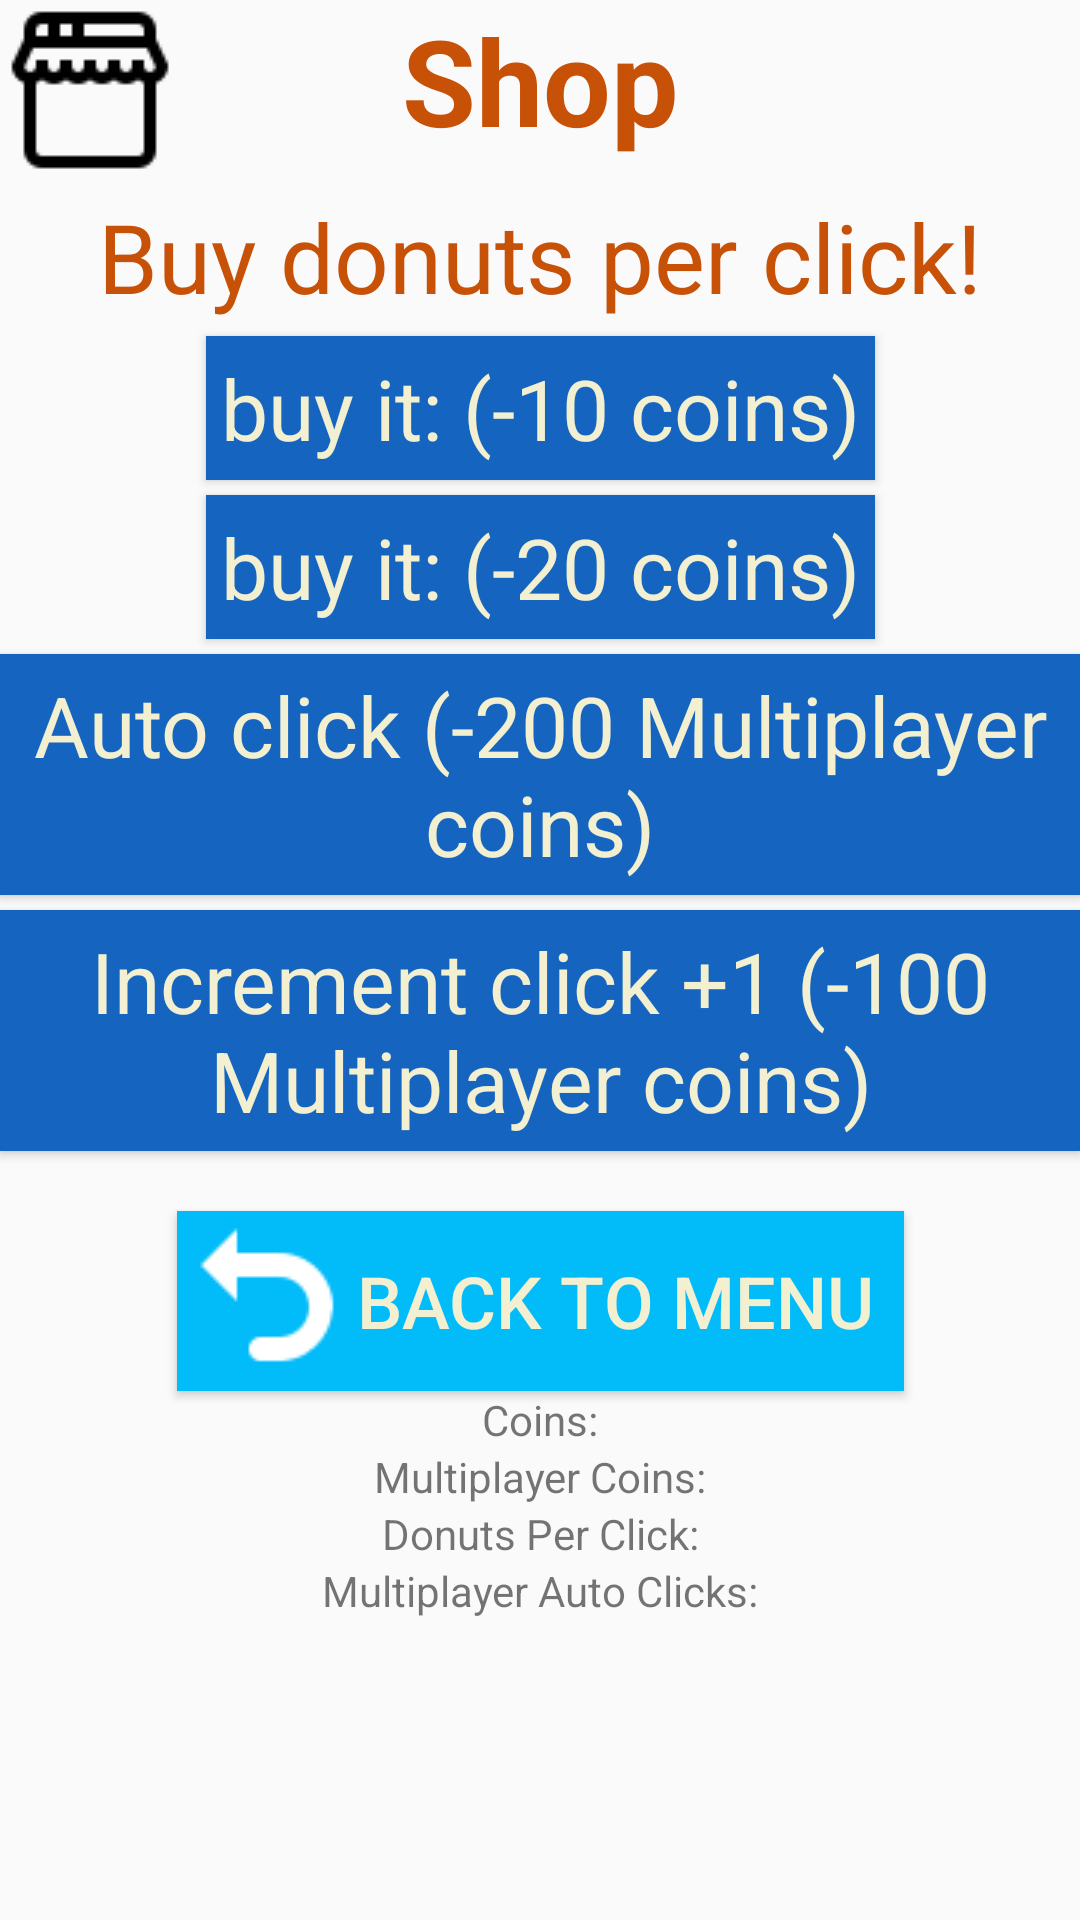

Locate icon controls on the screen. Image size 1080px×1920px, boxes as (x1, y1, x2, y2).
shop: (11, 11, 169, 169)
